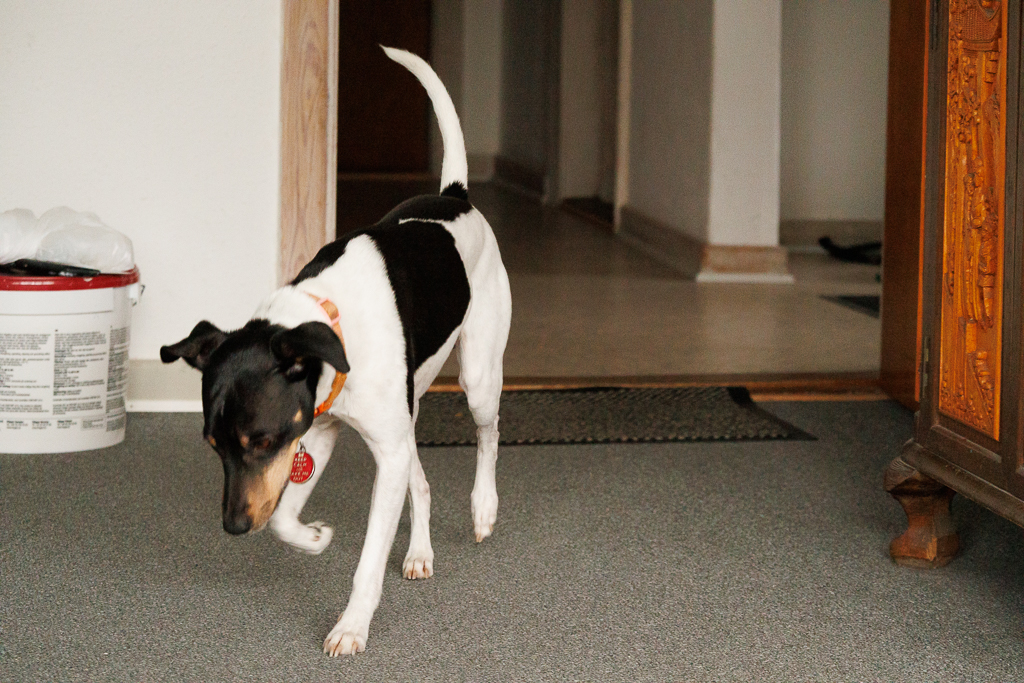Dog: (148, 40, 523, 662)
